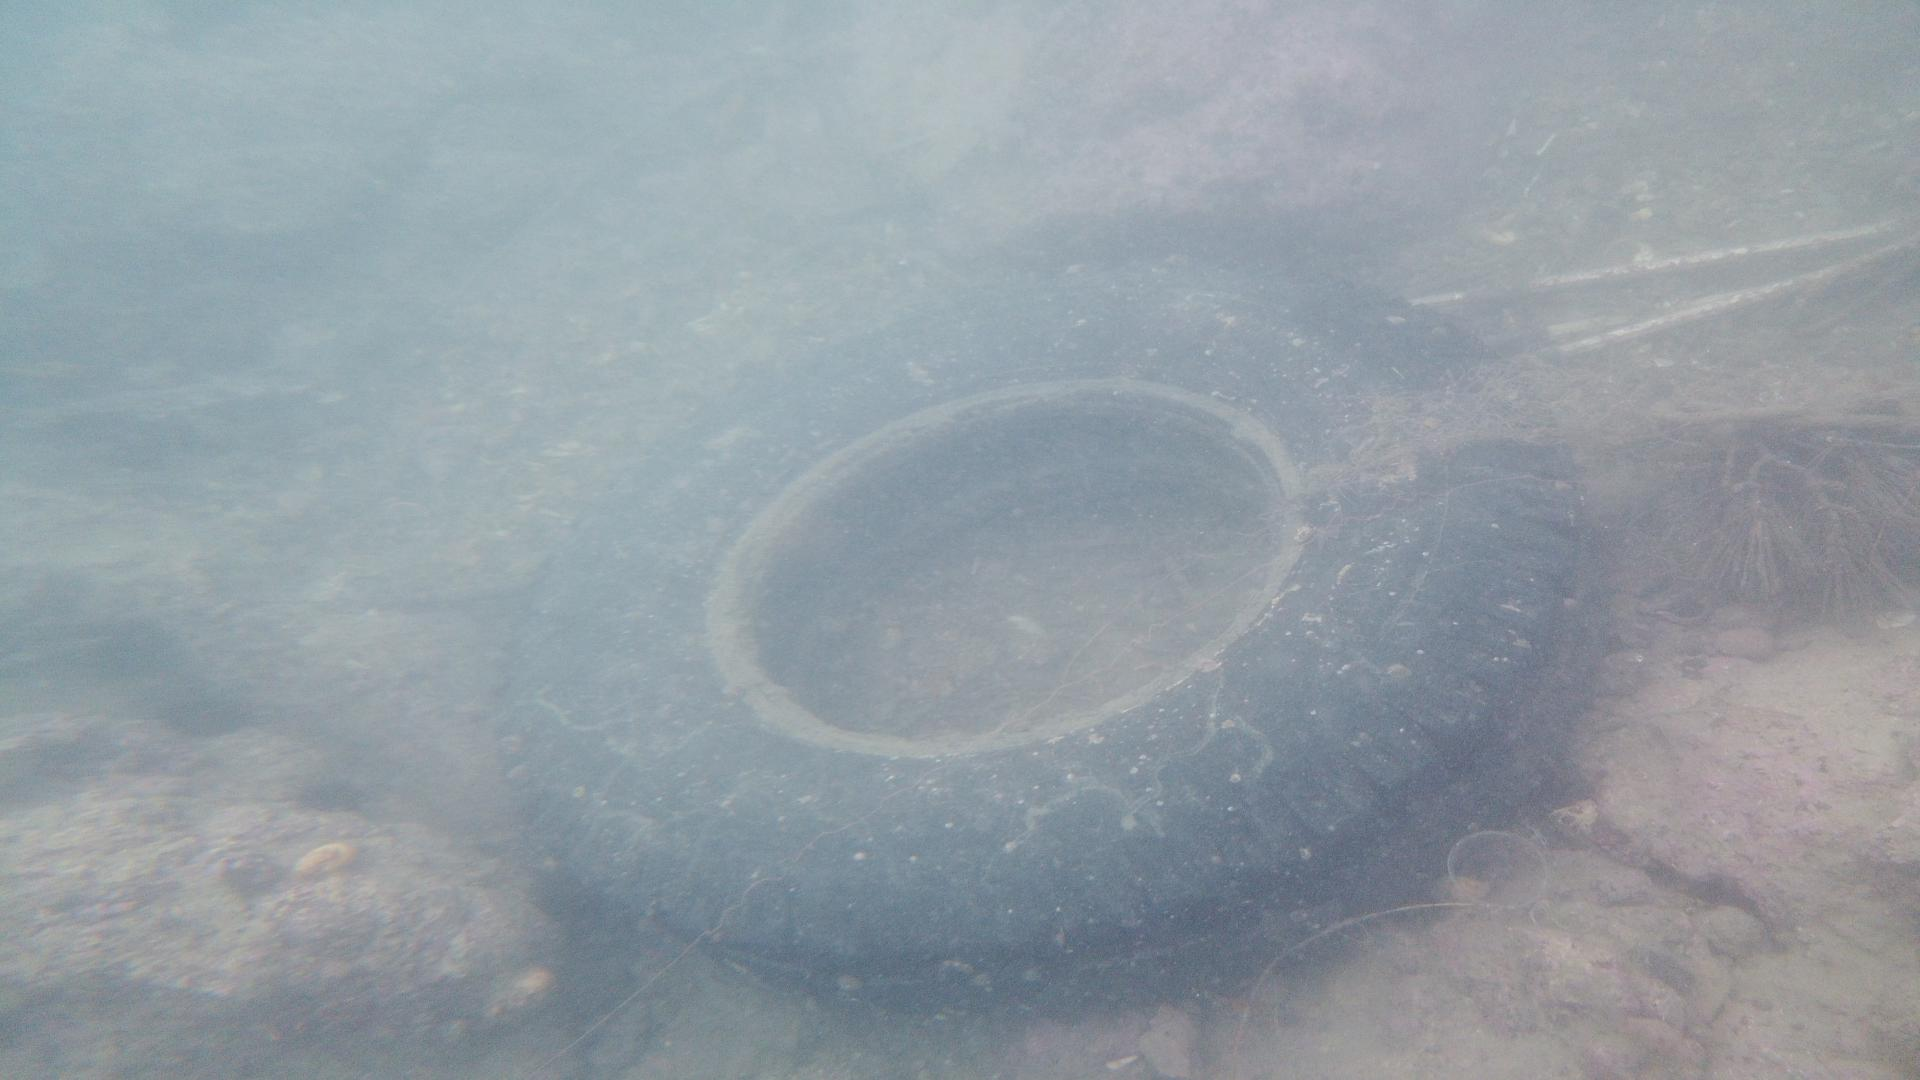tire: (502, 284, 1578, 1034)
